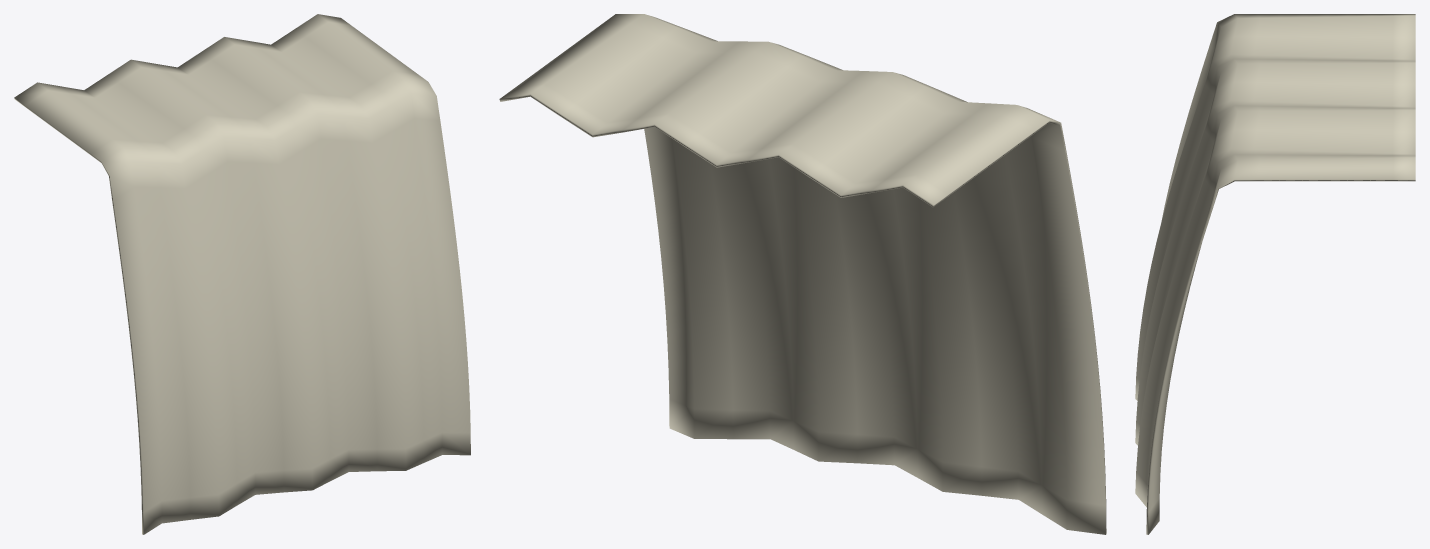
The model's file is V10_SinkCloth.fbx.
3 renders of one model, left to right at view 1: azimuth 30°, elevation 25°; view 2: azimuth 150°, elevation 25°; view 3: azimuth 270°, elevation 25°, orthographic. The views are drawn at different scales.
Visible parts, largest first — view 1: V10_SinkCloth_CH09_Cream; view 2: V10_SinkCloth_CH09_Cream; view 3: V10_SinkCloth_CH09_Cream.
Part boxes in pixels (x1,y1,x2,y2): V10_SinkCloth_CH09_Cream: (14,14,470,534); V10_SinkCloth_CH09_Cream: (499,14,1106,534); V10_SinkCloth_CH09_Cream: (1135,14,1415,534).
Bounding box in the file's own units: 32.14 × 32.9 × 22.9.
